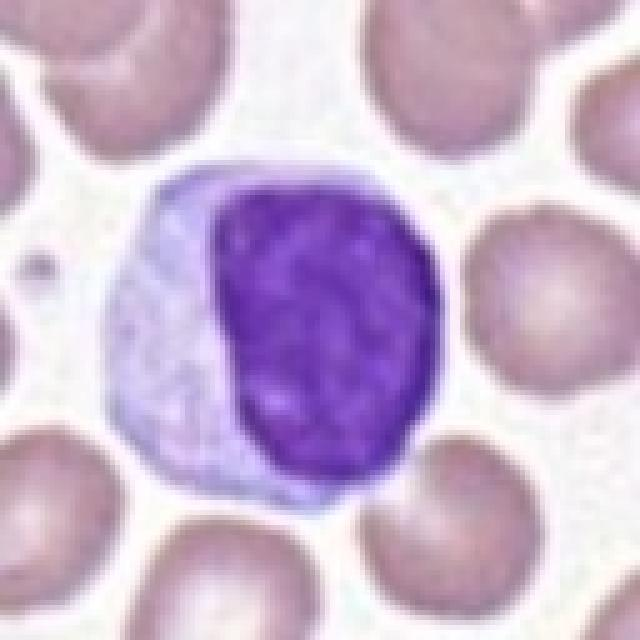lympho: (99, 153, 448, 517)
